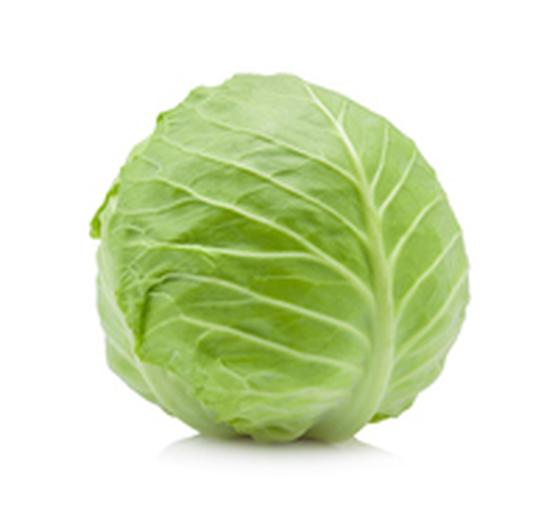cabbage: (90, 65, 477, 453)
